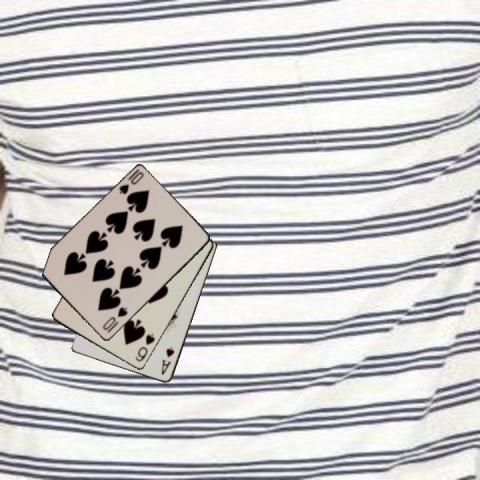10s: (100, 304, 130, 332), (116, 169, 145, 196)
6s: (132, 331, 157, 363)
As: (159, 344, 176, 377)
